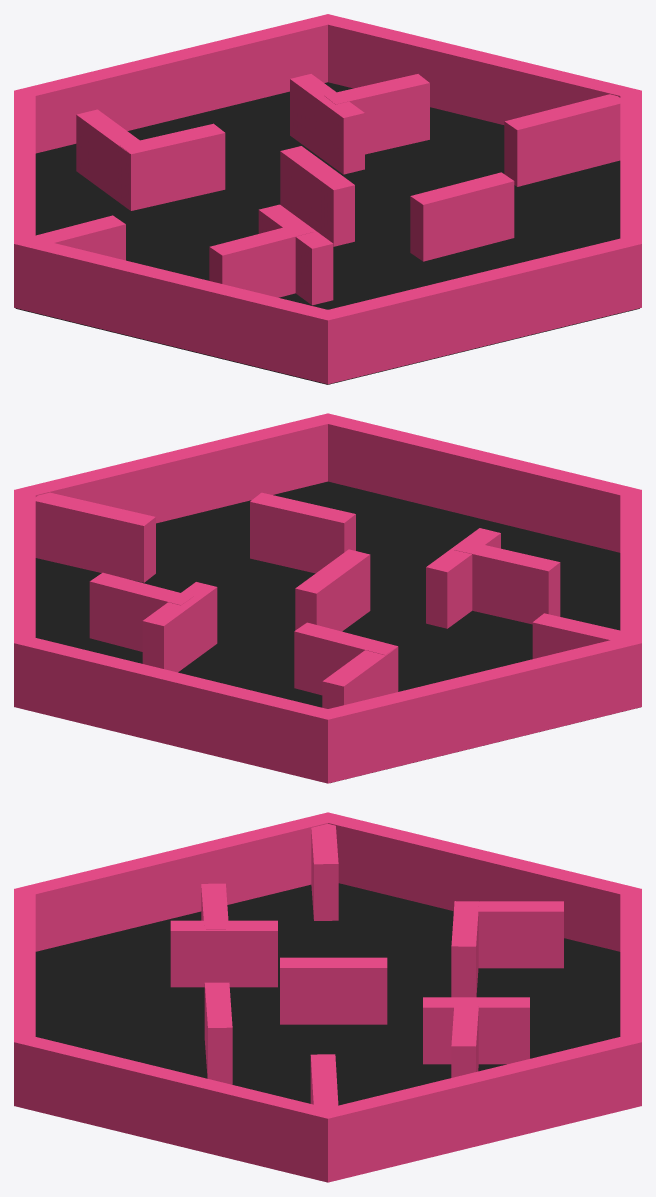
Rendered from hexagon_map.fbx.
The picture shows the model from 3 angles, top to bottom: view 1: azimuth 30°, elevation 25°; view 2: azimuth 150°, elevation 25°; view 3: azimuth 270°, elevation 25°; orthographic projection.
Parts seen in each view (by area): view 1: group14_pasted__pCube1; view 2: group14_pasted__pCube1; view 3: group14_pasted__pCube1.
Part boxes in pixels (box(x1,y1,x2,y2)): group14_pasted__pCube1: box(14, 14, 641, 384); group14_pasted__pCube1: box(14, 413, 641, 783); group14_pasted__pCube1: box(14, 812, 641, 1182).
Size of the model in its own units: 20.58 by 2.03 by 17.82.
